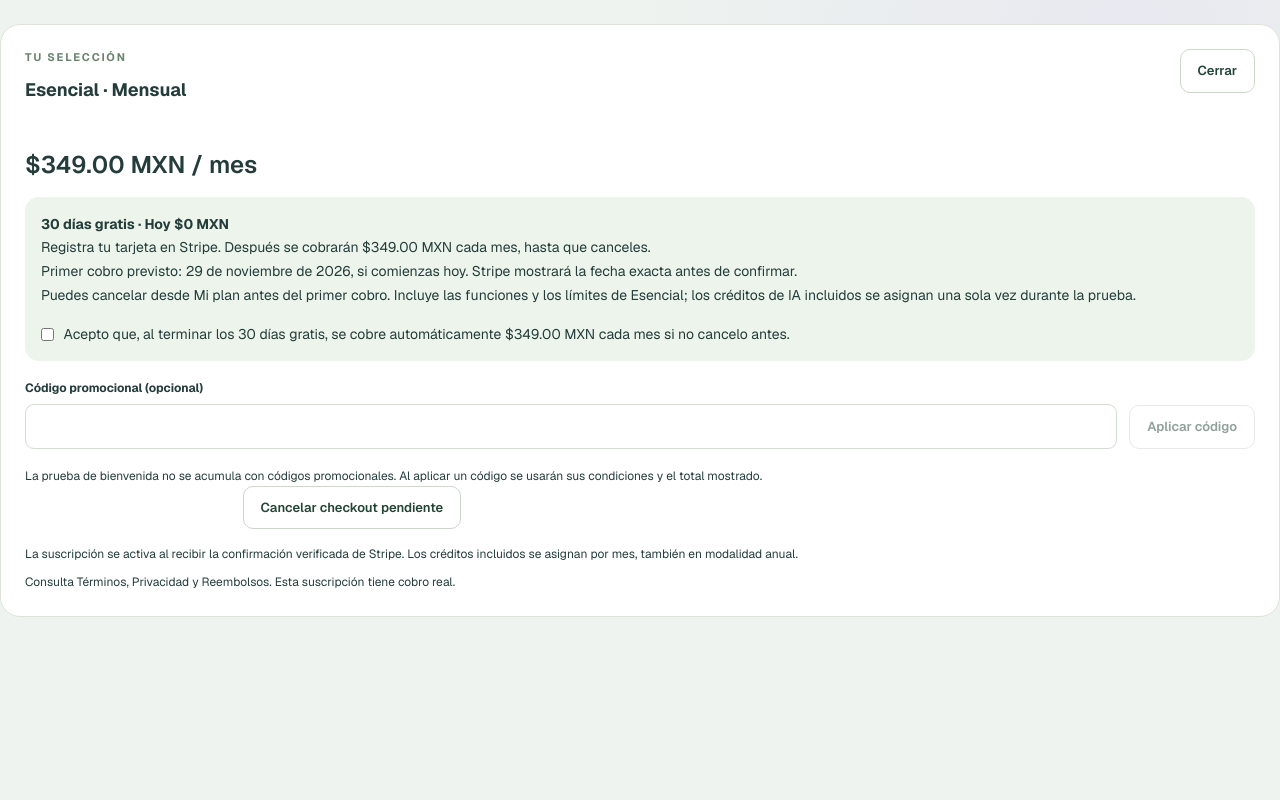
a promotional code replaces the welcome trial and displays the payable price
The width and height of the screenshot is (1280, 800).
Expected: the element named "Prueba gratis con tarjeta" is shown, [25,196,1255,361]
Type "PROMO" into the field labelled "Código promocional (opcional)" at x=571, y=426, box [25,404,1117,449]
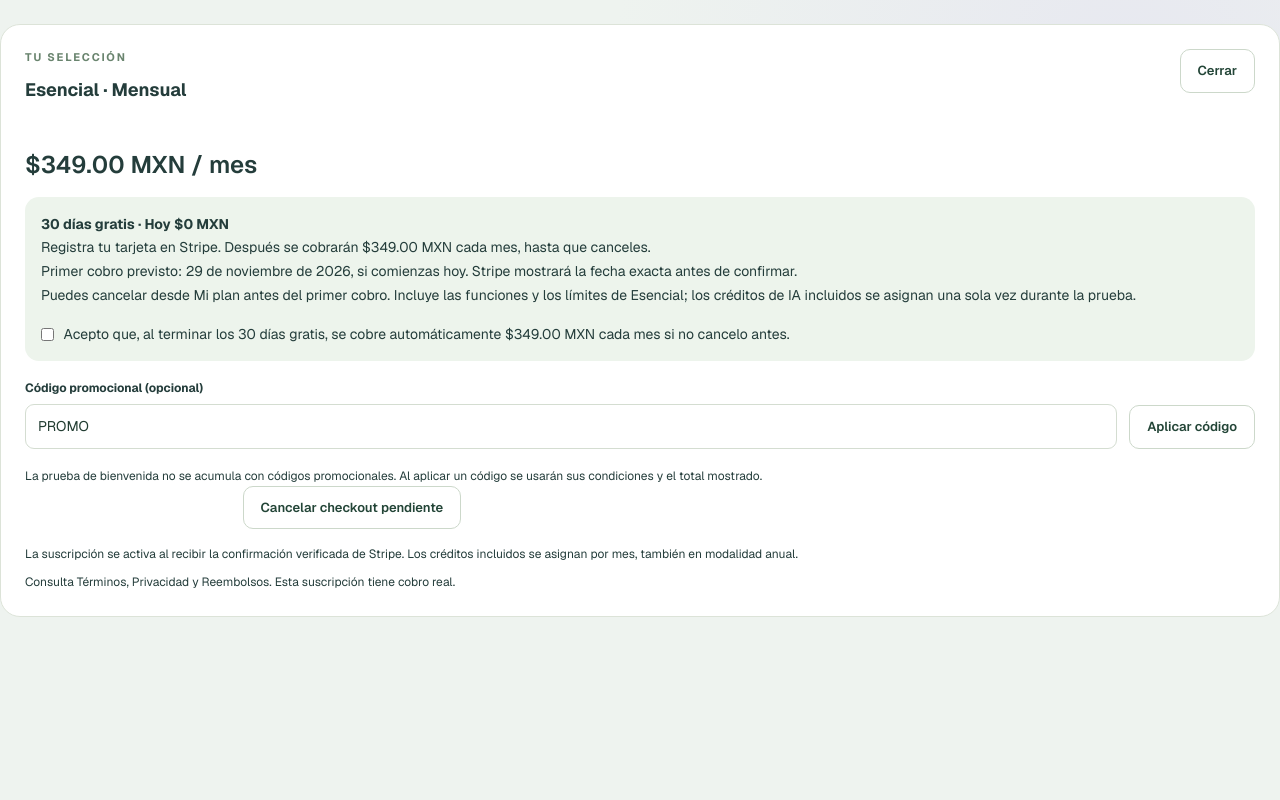
Click the button "Aplicar código" at x=1192, y=427, box [1129,405,1255,449]
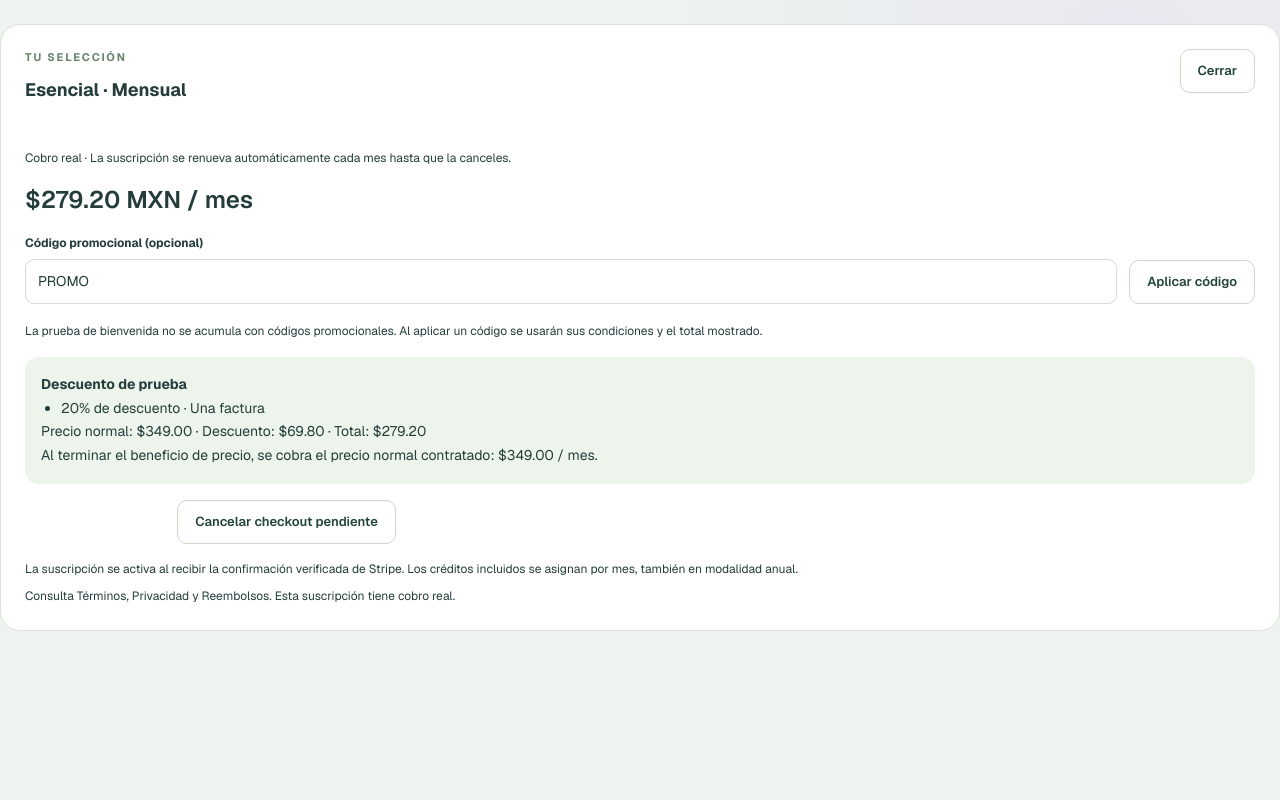
Expected: the text "Descuento de prueba" is shown, [41,375,187,393]
Expected: the text "Precio normal: $349.00 · Descuento: $69.80 · Total: $279.20" is shown, [41,422,426,440]
